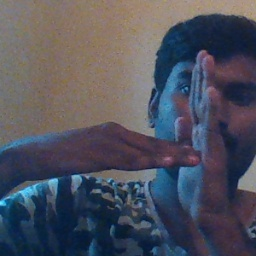Z: (97, 47, 234, 220)
